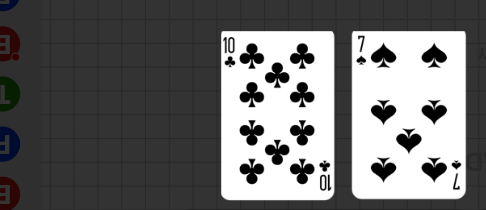10C: (223, 35, 238, 70)
7S: (450, 158, 463, 192)
